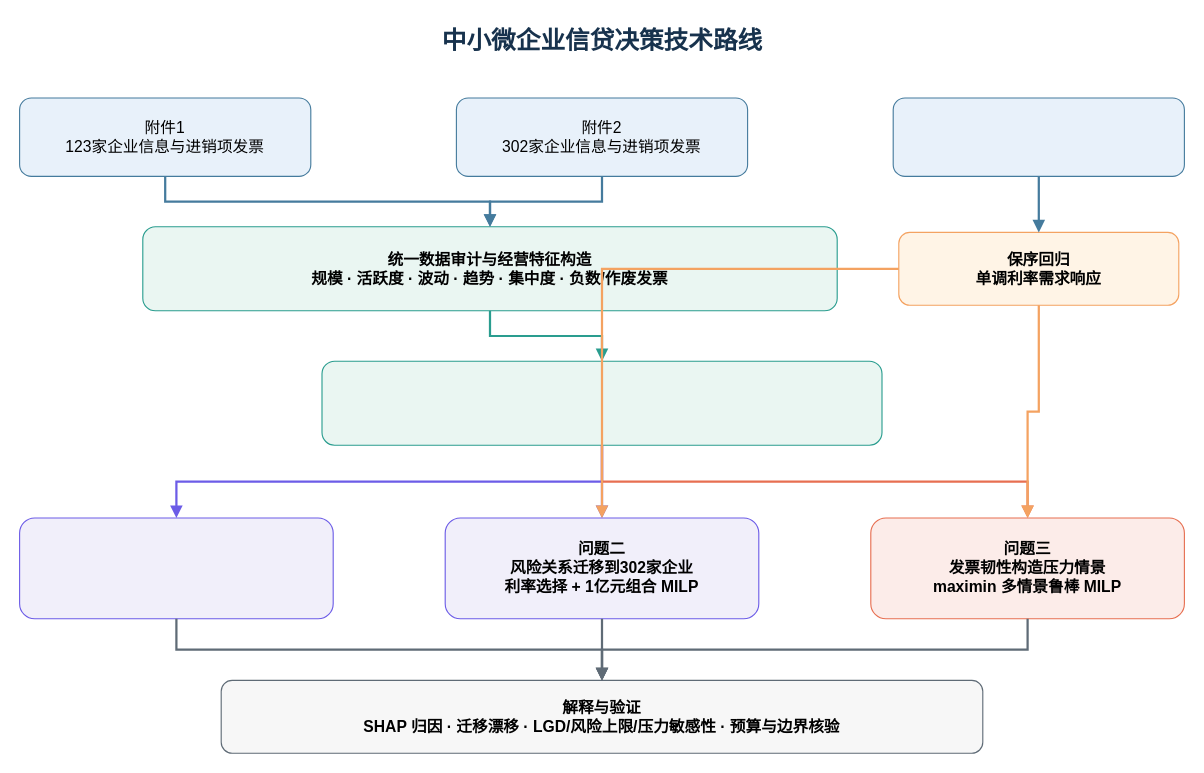
Image size: 1204x773. Some labels were removed from this diagram. The box of each missing label's shape, as (x1, y1, x2, y2) in pixels:
Logistic + XGBoost 融合 重复分层交叉验证 → 信用风险指数 CRI: (321, 360, 882, 445)
问题一 源域信用评价与排序 D级禁贷 + 固定额度策略: (18, 517, 333, 619)
附件3 利率—客户流失率数据: (892, 97, 1184, 176)
